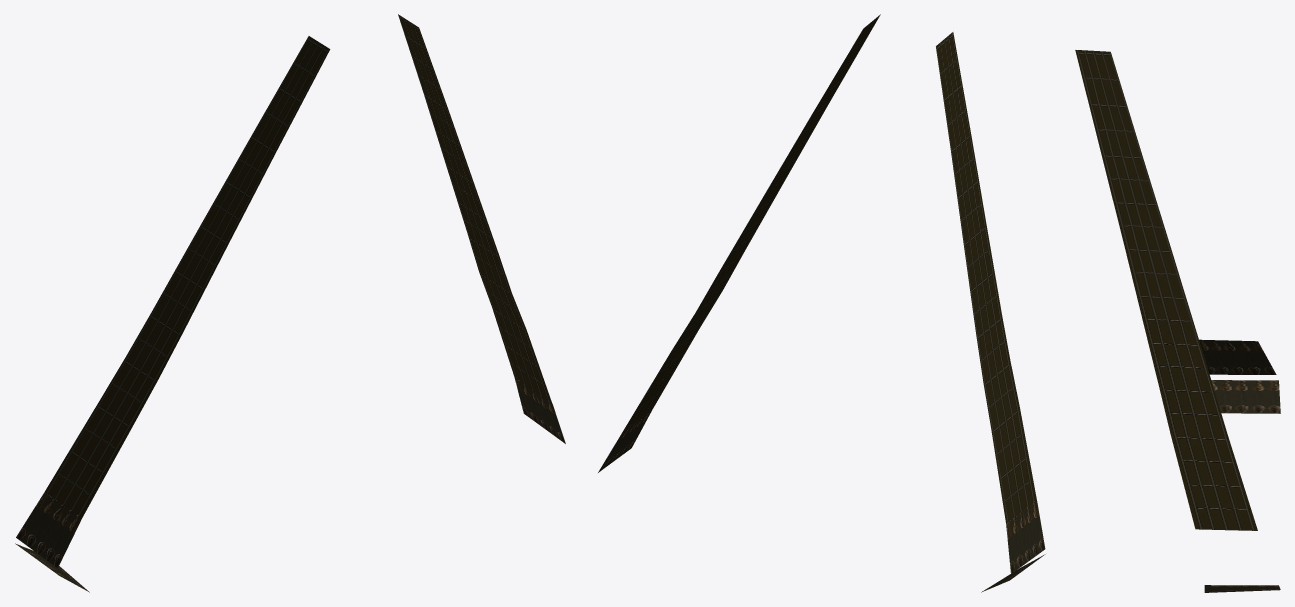
Rendered from warshipL3-rigging_1.fbx.
3 renders of one model, left to right at view 1: azimuth 30°, elevation 25°; view 2: azimuth 150°, elevation 25°; view 3: azimuth 270°, elevation 25°, orthographic. The views are drawn at different scales.
Visible parts, largest first — view 1: rigging, pullys_1b, pullys_1b3; view 2: rigging, pullys_1b, pullys_1b3; view 3: rigging, pullys_1b, riggingmount_pulleys1, riggingmount_pulleys4.
Part boxes in pixels (bbox=[...]): rigging: bbox=[44, 14, 551, 517]; pullys_1b: bbox=[16, 492, 81, 568]; pullys_1b3: bbox=[514, 378, 565, 443]; rigging: bbox=[623, 14, 1036, 523]; pullys_1b: bbox=[1006, 500, 1045, 573]; pullys_1b3: bbox=[598, 407, 653, 472]; rigging: bbox=[1075, 50, 1257, 530]; pullys_1b: bbox=[1199, 339, 1276, 374]; riggingmount_pulleys1: bbox=[1211, 380, 1280, 413]; riggingmount_pulleys4: bbox=[1204, 585, 1280, 592].
Bounding box in the file's own units: 12290 × 12976 × 5207.
Materials: 1 (1 with a texture image).
